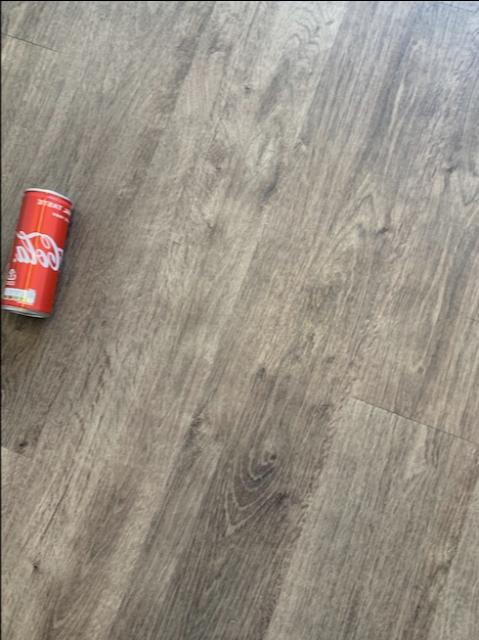metal: (0, 189, 69, 318)
